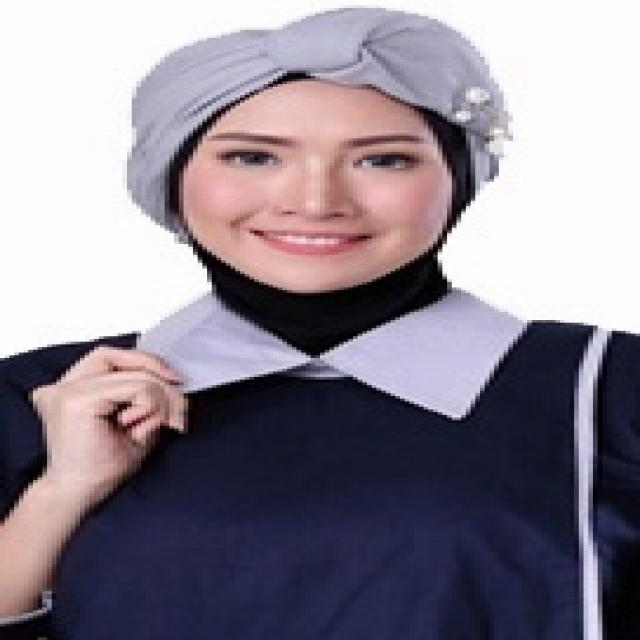head: (143, 22, 503, 298)
